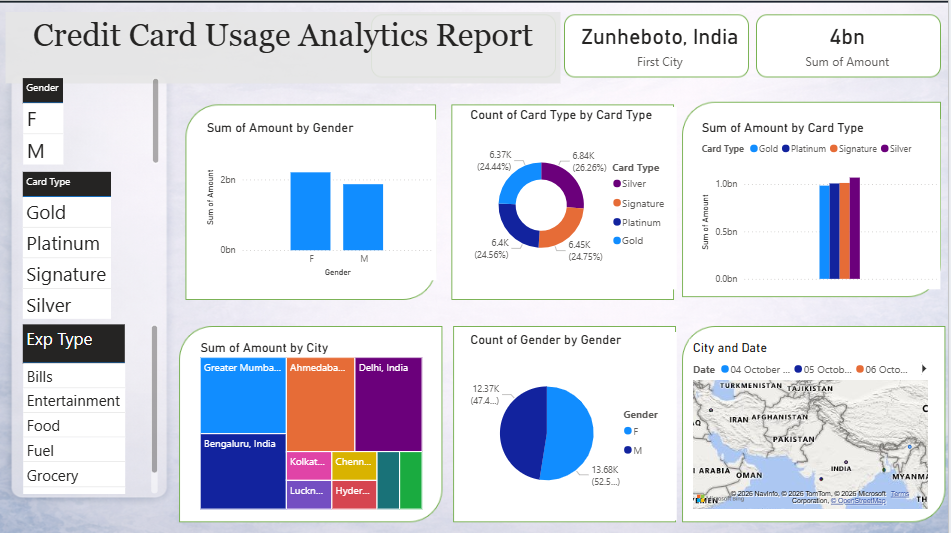

The dashboard page shown, as its layout file describes it:
{"tool":"powerbi","page":{"name":"Page 3","canvas":[1280,720],"ordinal":2},"visuals":[{"type":"image","box":[0,0,1270,720],"z":0},{"type":"textbox","box":[10,20,740,95],"z":1},{"type":"clusteredColumnChart","fields":{"Series":["Credit card transactions - India - Simple.Card Type"],"Y":["Sum(Credit card transactions - India - Simple.Amount)"]},"box":[933.3,163.3,323.3,226.7],"z":2},{"type":"lineClusteredColumnComboChart","fields":{"Category":["Credit card transactions - India - Simple.Gender"],"Y":["Sum(Credit card transactions - India - Simple.Amount)"]},"box":[272.9,162.9,311.4,214.3],"z":3},{"type":"pieChart","fields":{"Category":["Credit card transactions - India - Simple.Gender"],"Y":["CountNonNull(Credit card transactions - India - Simple.Gender)"]},"box":[624.3,447.1,280,251.4],"z":4},{"type":"donutChart","fields":{"Category":["Credit card transactions - India - Simple.Card Type"],"Y":["CountNonNull(Credit card transactions - India - Simple.Card Type)"]},"box":[624.3,147.1,280,242.9],"z":5},{"type":"treemap","fields":{"Group":["Credit card transactions - India - Simple.City"],"Values":["Sum(Credit card transactions - India - Simple.Amount)"]},"box":[265.7,457.1,305.7,231.4],"z":6},{"type":"map","fields":{"Category":["Credit card transactions - India - Simple.City"],"Series":["Credit card transactions - India - Simple.Date"]},"box":[921.7,456.7,323.3,231.7],"z":7},{"type":"card","fields":{"Values":["Sum(Credit card transactions - India - Simple.Amount)"]},"box":[1058.3,20,148.3,83.3],"z":8},{"type":"card","fields":{"Values":["Min(Credit card transactions - India - Simple.City)"]},"box":[750,20,265,83.3],"z":9},{"type":"tableEx","fields":{"Values":["Credit card transactions - India - Simple.Gender"]},"box":[26.7,103.3,193.3,125],"z":10},{"type":"tableEx","fields":{"Values":["Credit card transactions - India - Simple.Card Type"]},"box":[26.7,228.3,191.7,300],"z":11},{"type":"tableEx","fields":{"Values":["Credit card transactions - India - Simple.Exp Type"]},"box":[26.7,431.7,191.7,235],"z":12}]}

Visuals, with their boxes in screenshot pixels (x1, y1, x2, y2), scaled from the page's 1280x720 canvas onto the 951x533 screenshot:
image: pyautogui.locateOnScreen(0, 0, 944, 532)
textbox: pyautogui.locateOnScreen(7, 15, 557, 85)
clusteredColumnChart - Credit card transactions - India - Simple.Card Type x Sum(Credit card transactions - India - Simple.Amount): pyautogui.locateOnScreen(693, 121, 934, 289)
lineClusteredColumnComboChart - Credit card transactions - India - Simple.Gender x Sum(Credit card transactions - India - Simple.Amount): pyautogui.locateOnScreen(203, 121, 434, 279)
pieChart - Credit card transactions - India - Simple.Gender x CountNonNull(Credit card transactions - India - Simple.Gender): pyautogui.locateOnScreen(464, 331, 672, 517)
donutChart - Credit card transactions - India - Simple.Card Type x CountNonNull(Credit card transactions - India - Simple.Card Type): pyautogui.locateOnScreen(464, 109, 672, 289)
treemap - Credit card transactions - India - Simple.City x Sum(Credit card transactions - India - Simple.Amount): pyautogui.locateOnScreen(197, 338, 425, 510)
map - Credit card transactions - India - Simple.City x Credit card transactions - India - Simple.Date: pyautogui.locateOnScreen(685, 338, 925, 510)
card - Sum(Credit card transactions - India - Simple.Amount): pyautogui.locateOnScreen(786, 15, 896, 76)
card - Min(Credit card transactions - India - Simple.City): pyautogui.locateOnScreen(557, 15, 754, 76)
tableEx - Credit card transactions - India - Simple.Gender: pyautogui.locateOnScreen(20, 76, 163, 169)
tableEx - Credit card transactions - India - Simple.Card Type: pyautogui.locateOnScreen(20, 169, 162, 391)
tableEx - Credit card transactions - India - Simple.Exp Type: pyautogui.locateOnScreen(20, 320, 162, 494)
